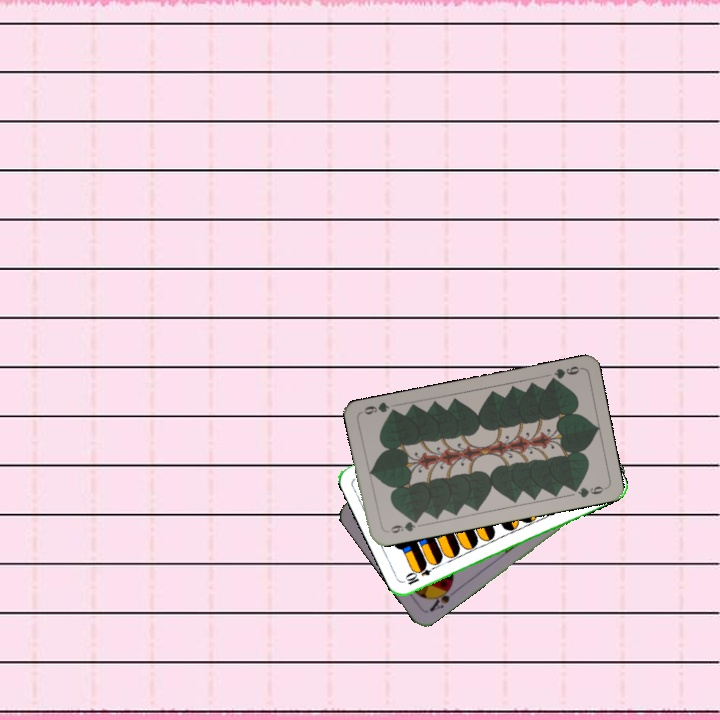E10: (402, 560, 440, 588)
G9: (545, 362, 583, 386), (382, 515, 421, 536)
SA: (425, 581, 460, 615)
